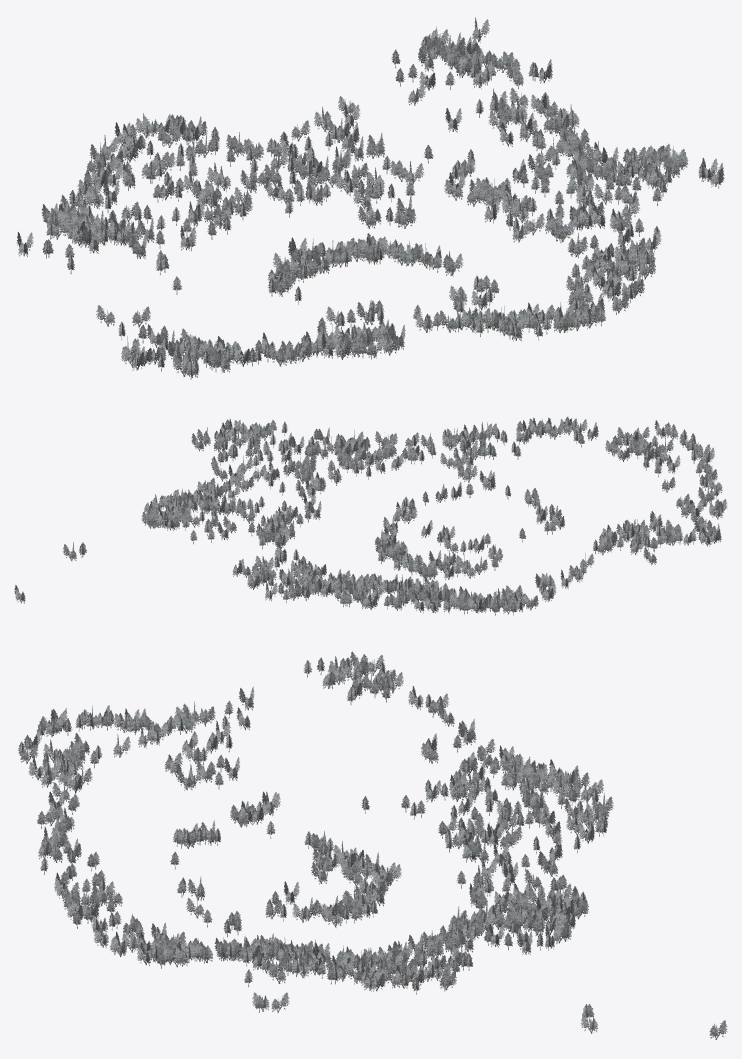
File: WinterPine_Imposter.fbx
3 views of the same model, one above another, from view 1: azimuth 30°, elevation 25°; view 2: azimuth 150°, elevation 25°; view 3: azimuth 270°, elevation 25° (orthographic). The views are drawn at different scales.
Parts seen in each view (by area): view 1: WinterPine_Imposter; view 2: WinterPine_Imposter; view 3: WinterPine_Imposter.
Part boxes in pixels (bbox=[...]): WinterPine_Imposter: bbox=[17, 17, 724, 379]; WinterPine_Imposter: bbox=[14, 416, 727, 615]; WinterPine_Imposter: bbox=[18, 651, 727, 1039].
Size of the model in its own units: 189814 by 33625 by 187592.
